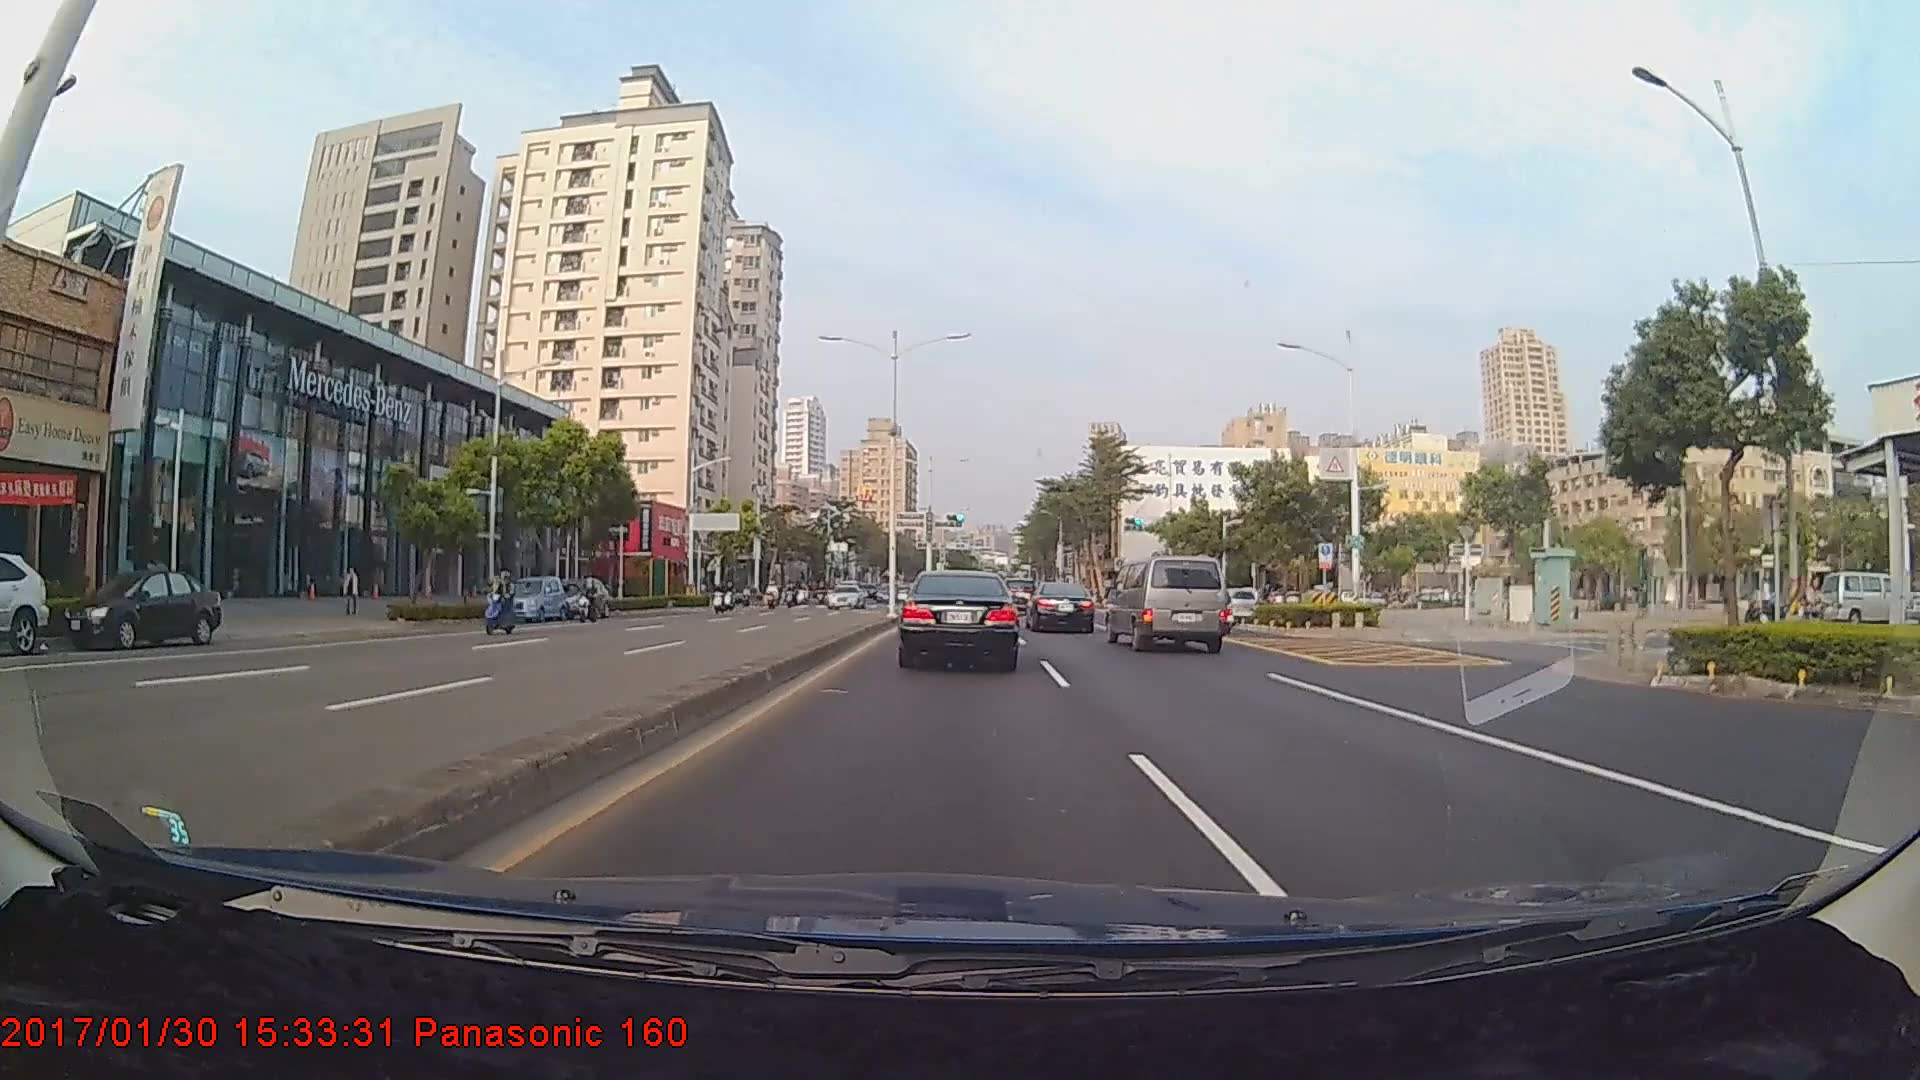pedestrian: (341, 566, 363, 621)
rider: (484, 562, 524, 640), (576, 581, 608, 627)
vehicle: (63, 567, 220, 649), (898, 568, 1019, 670), (1105, 554, 1227, 653), (0, 551, 51, 660), (1026, 581, 1097, 634), (498, 577, 565, 624), (551, 576, 606, 622), (823, 582, 861, 609)
